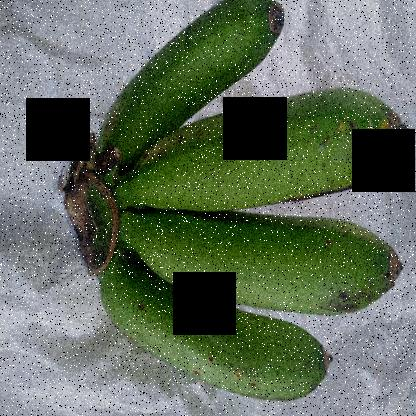rotten: (309, 253, 382, 338)
unripe: (111, 74, 413, 212), (119, 195, 412, 322), (88, 263, 329, 403), (102, 0, 286, 167)
